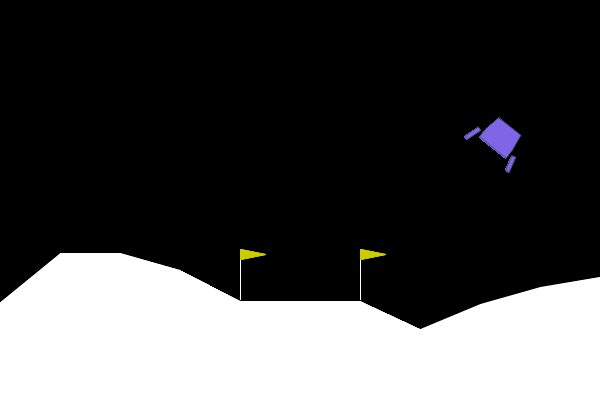lander: (462, 106, 534, 175)
